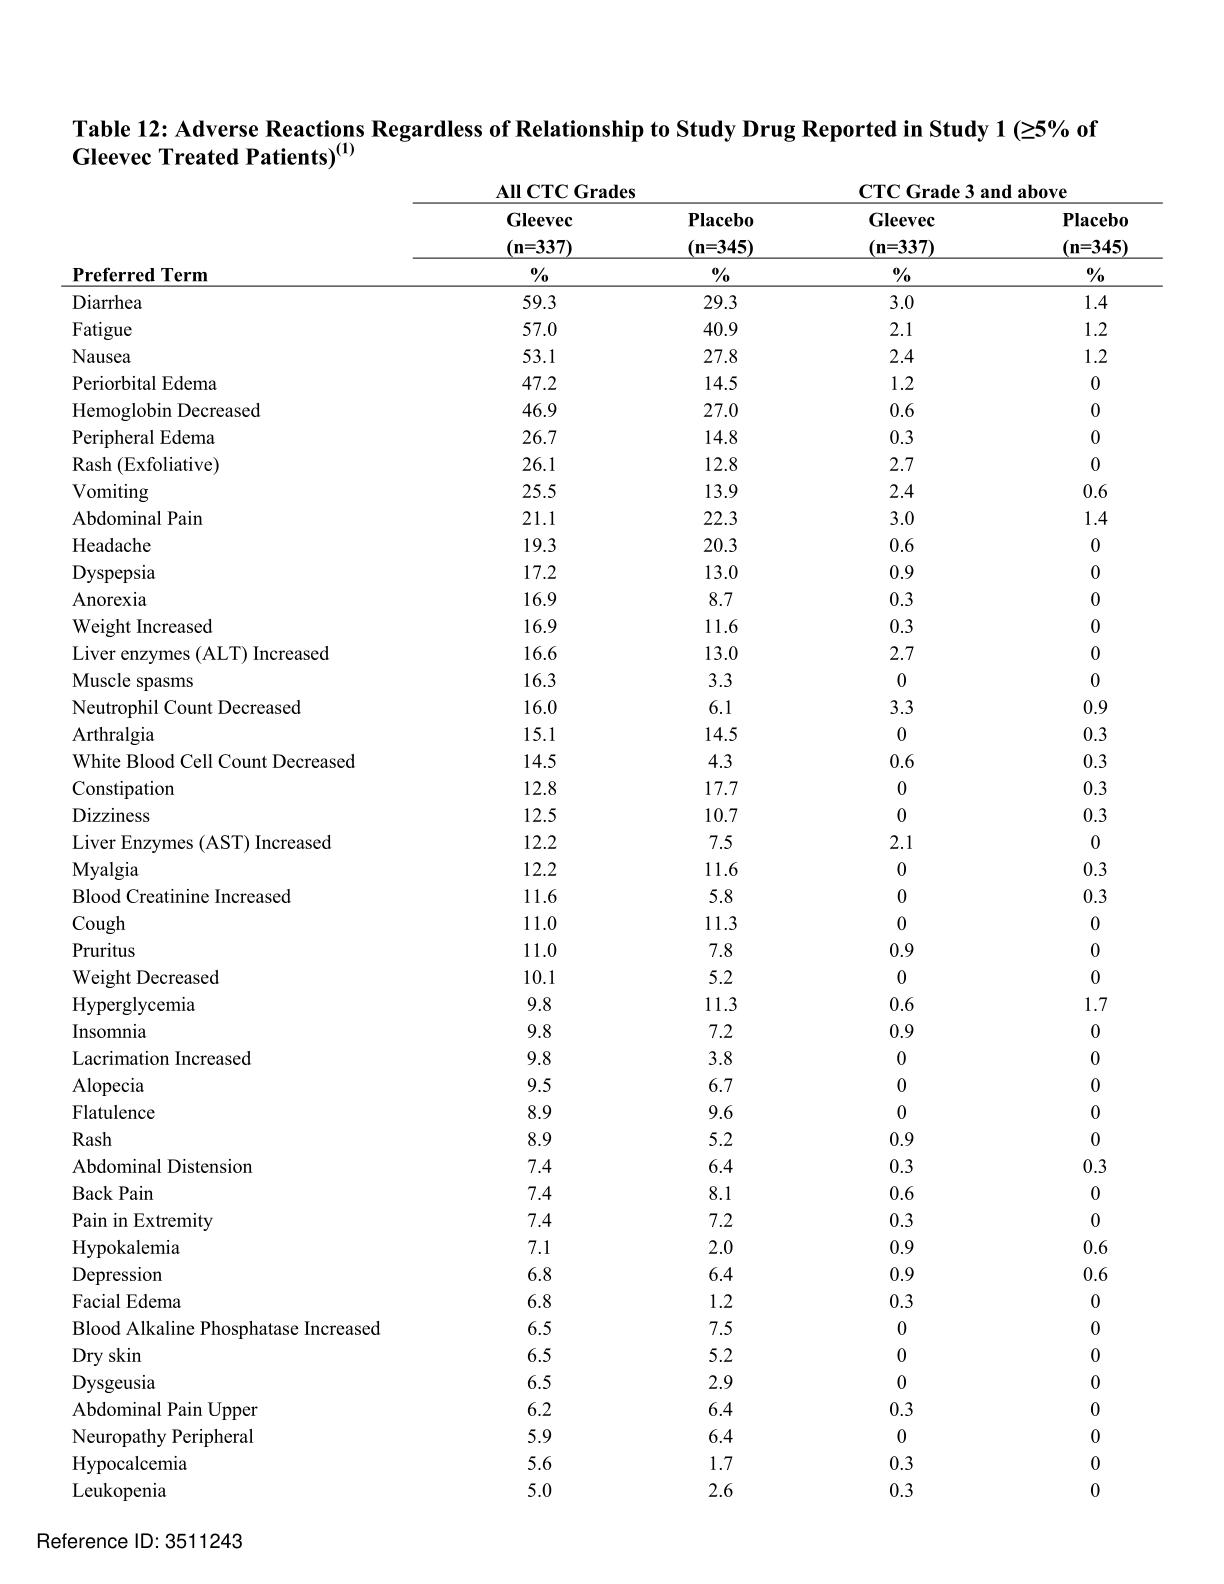partial_lined_merged_cells: (60, 177, 1164, 1504)
